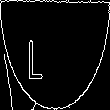L_N: (47, 29, 63, 81)
